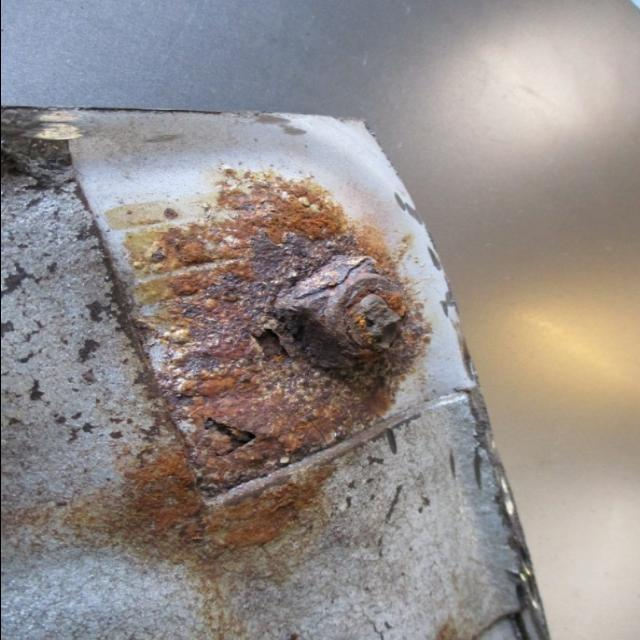corrosion: (129, 193, 427, 561)
